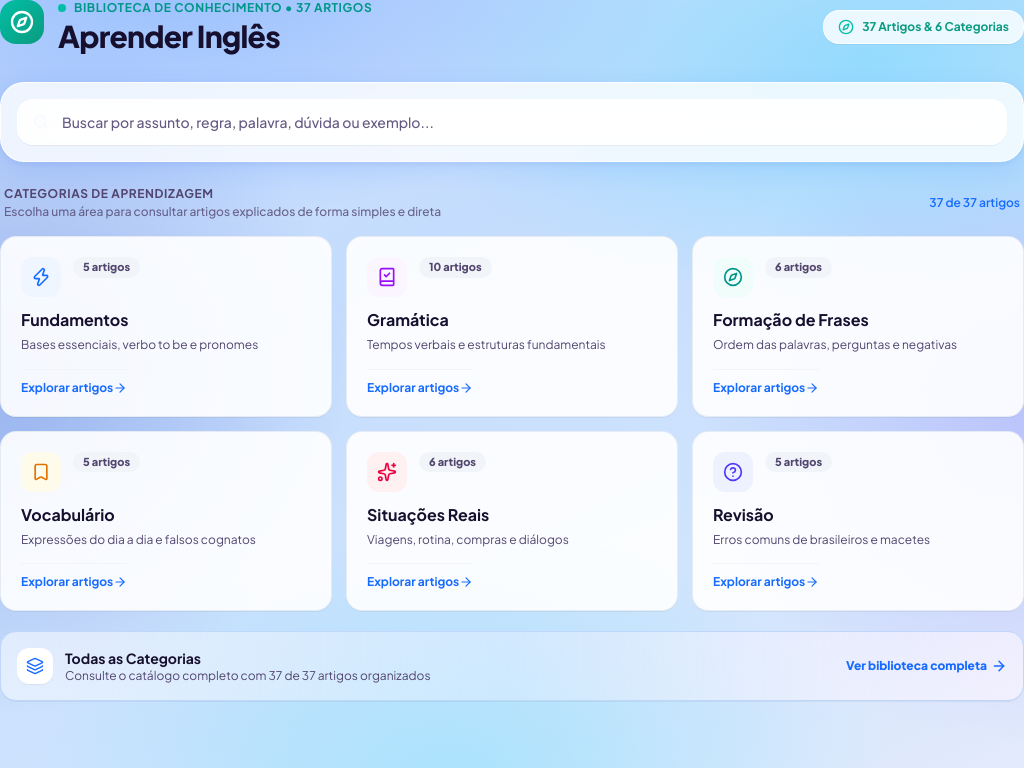
it: LearningLibraryView Component Tests › opens the complete library (Todas as Categorias) and supports pagination
Note: Click on "Todas as Categorias" complete library card
Click the button "Todas as Categorias".
click(35, 666)  # box 0,631 -> 1023,701
(page scrolled)
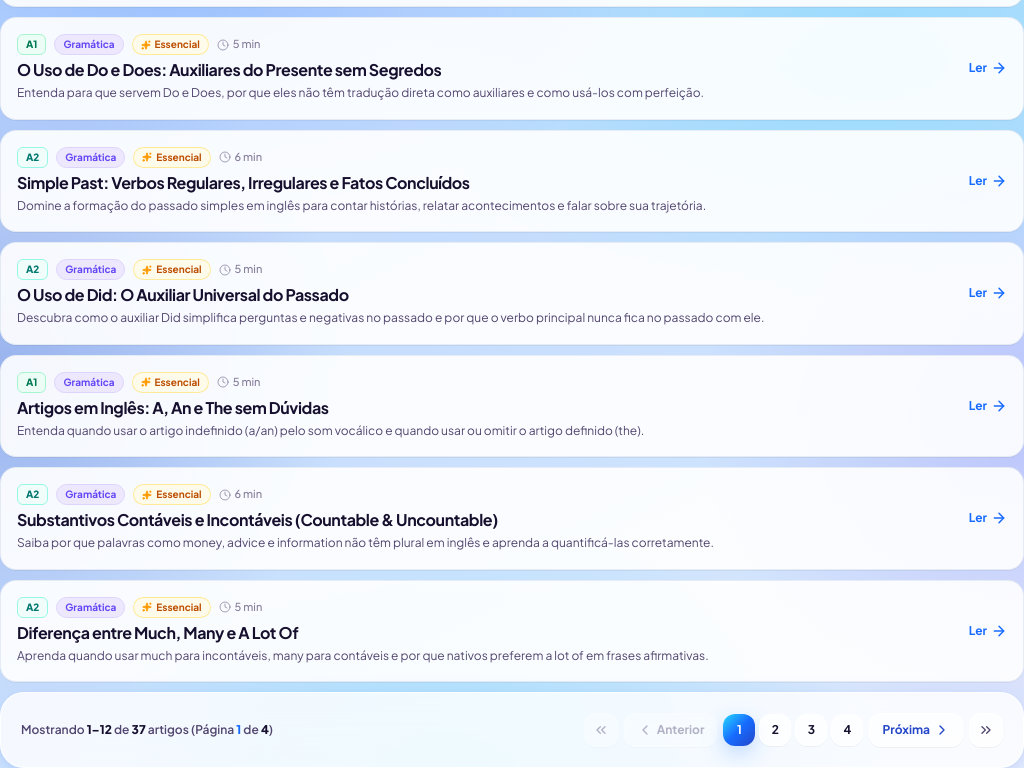
Check: the navigation bar named "Navegação por páginas dos artigos" shows "Mostrando 1–12 de 37 artigos", box 0,692 -> 1023,767
Note: Navigate to page 2
Click the button named "Ir para a página 2".
click(775, 730)  # box 759,714 -> 791,746
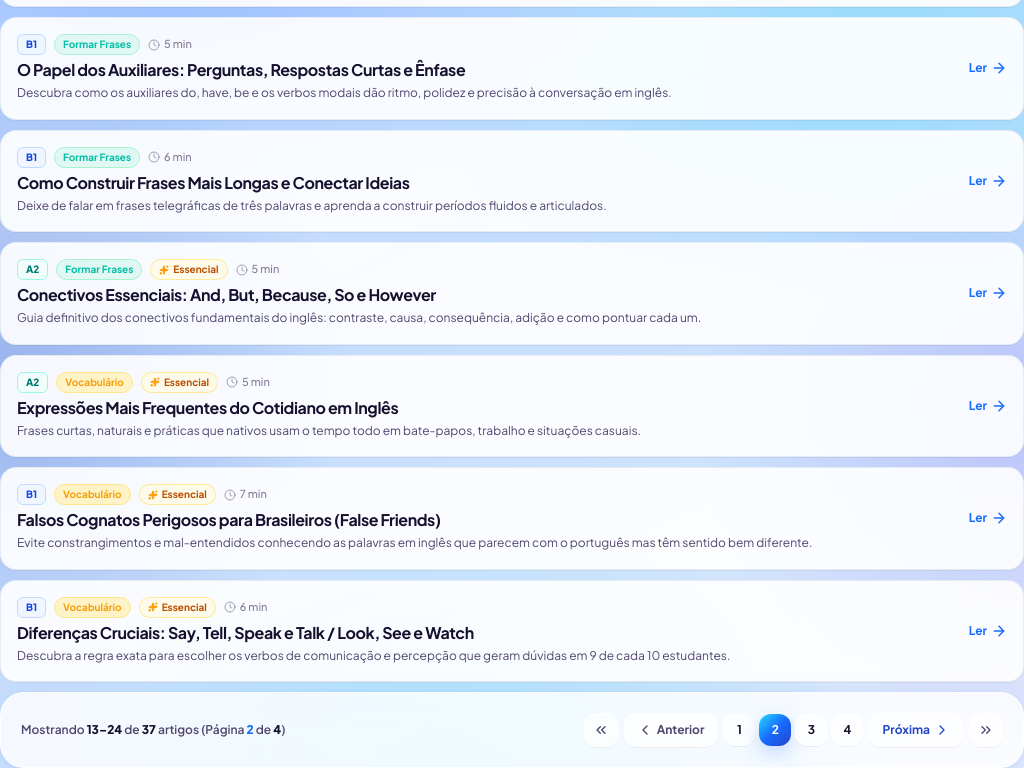
Check: the navigation bar named "Navegação por páginas dos artigos" shows "Mostrando 13–24 de 37 artigos", box 0,692 -> 1023,767
